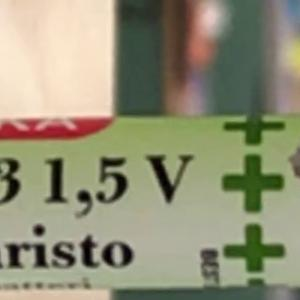ALK: (35, 145, 204, 213)
